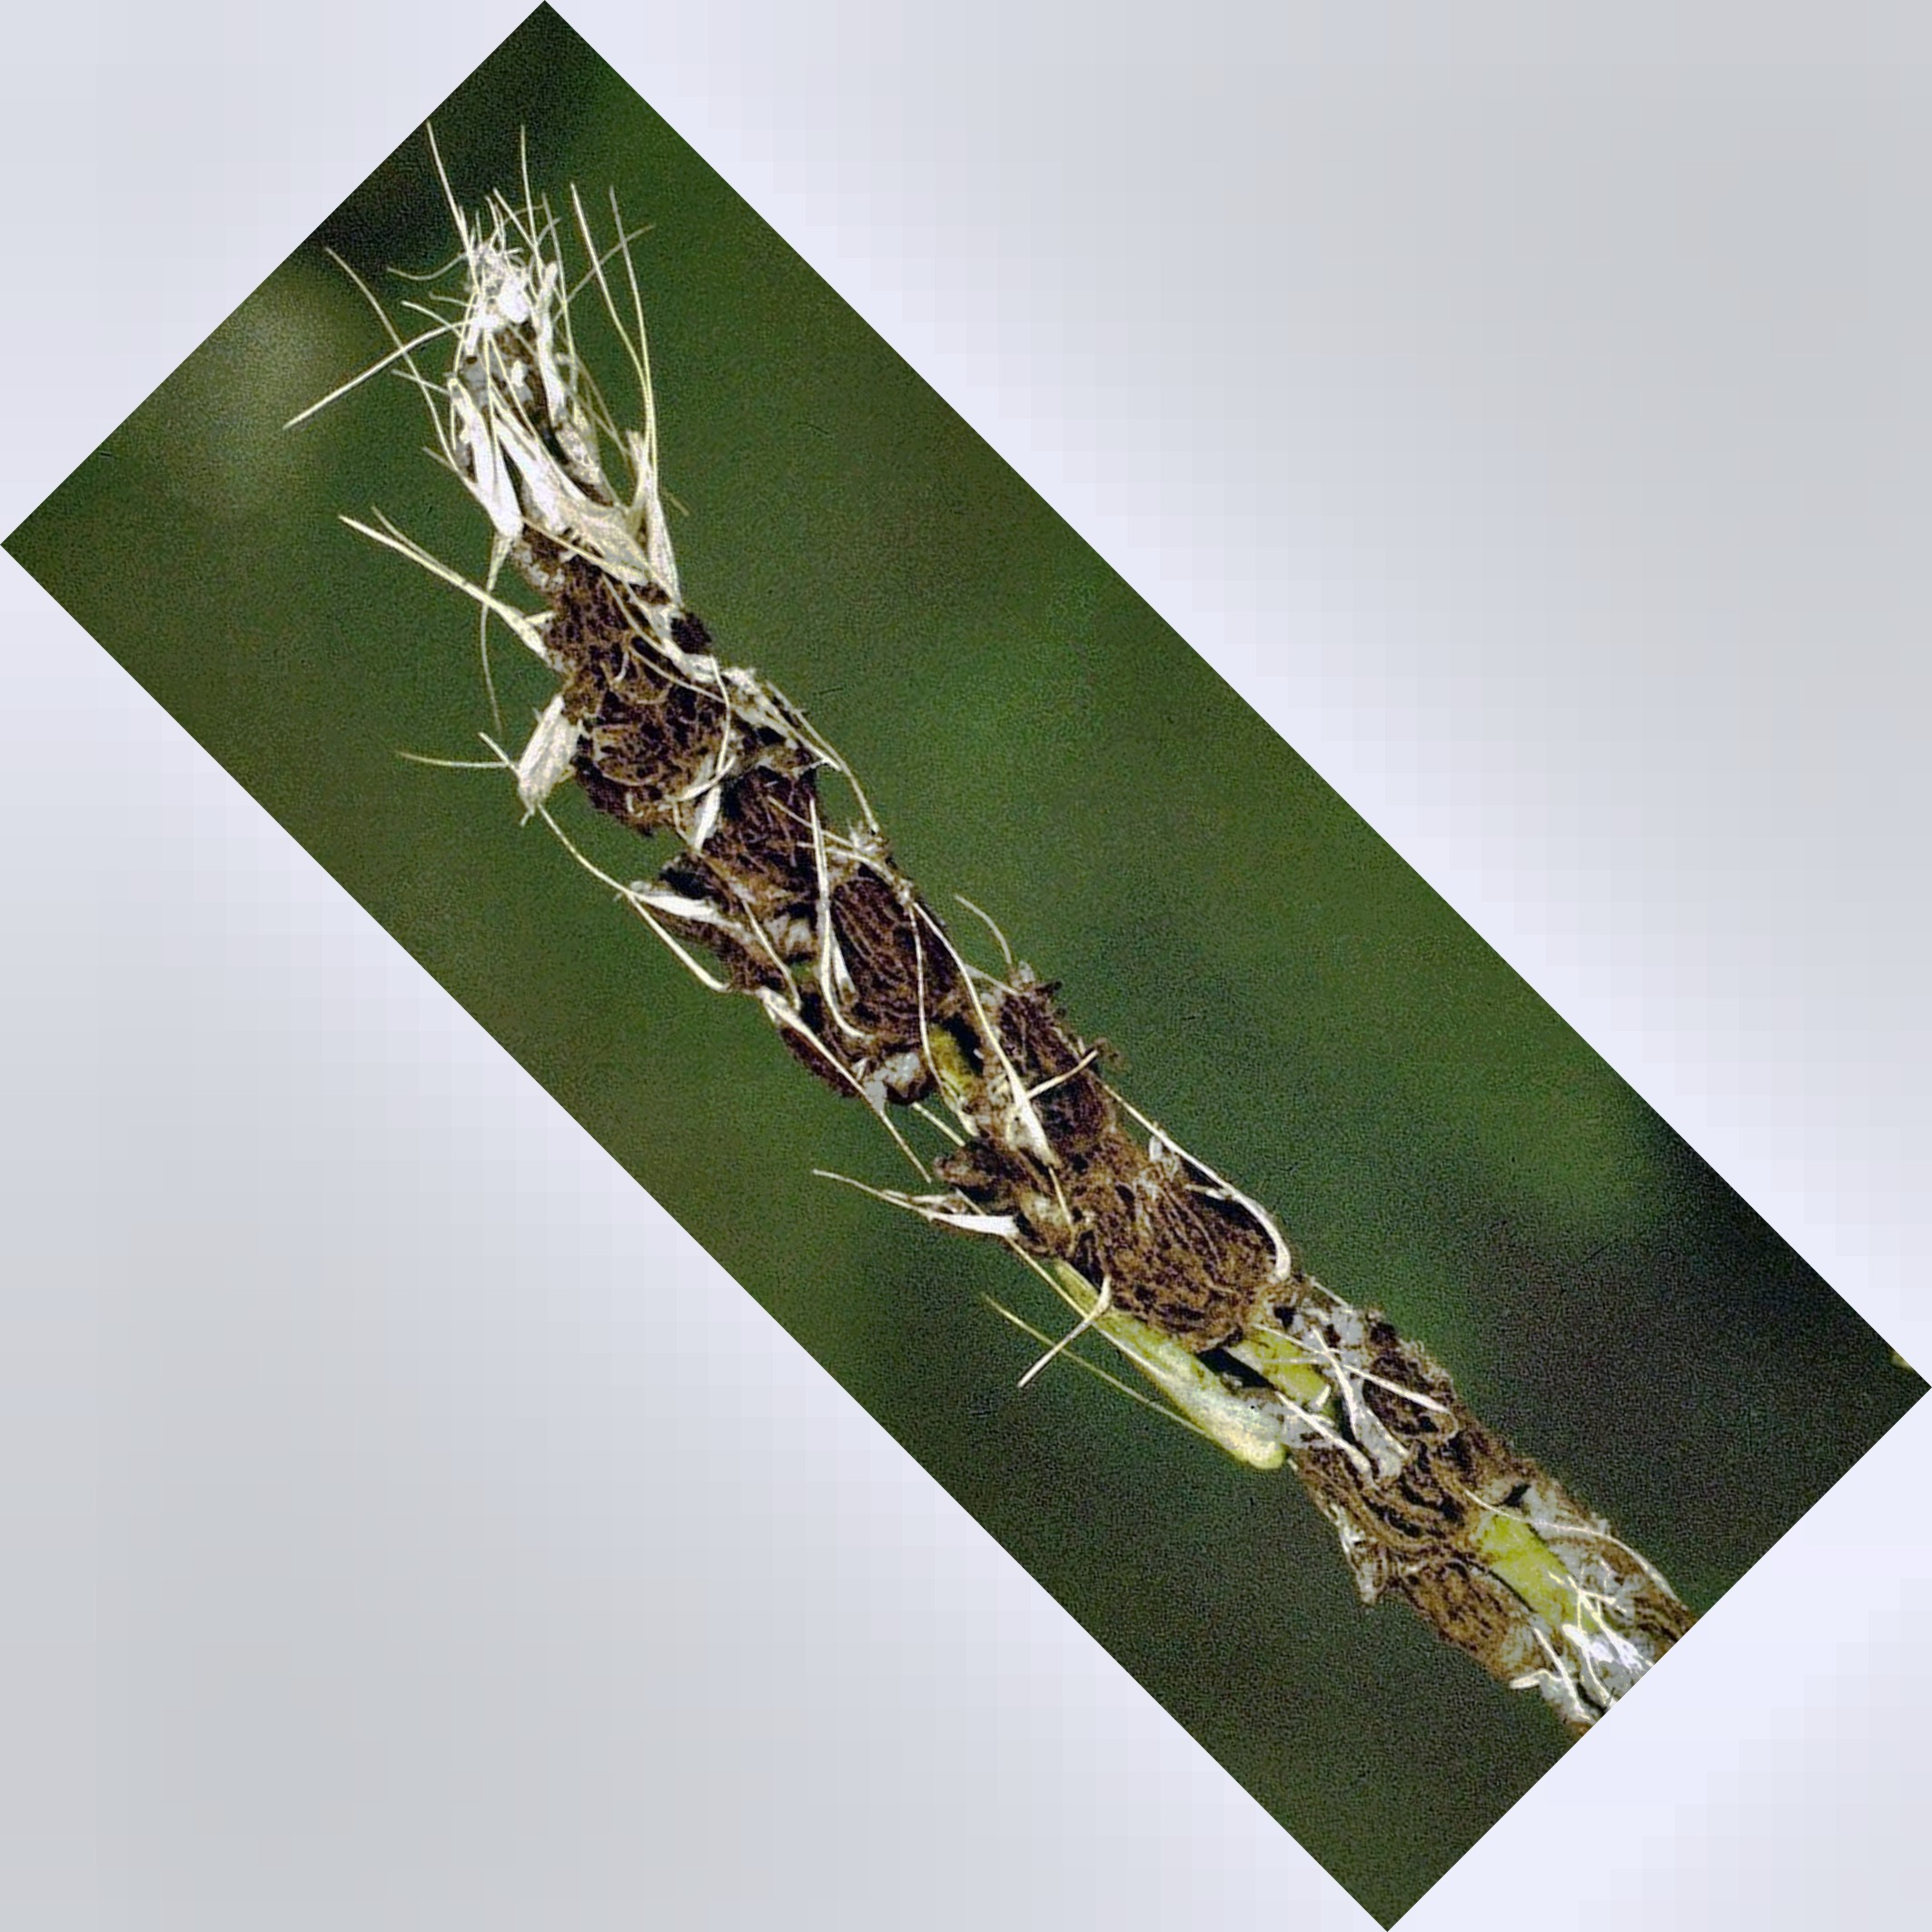Wheat Loose Smut: (395, 306, 1304, 1419)
